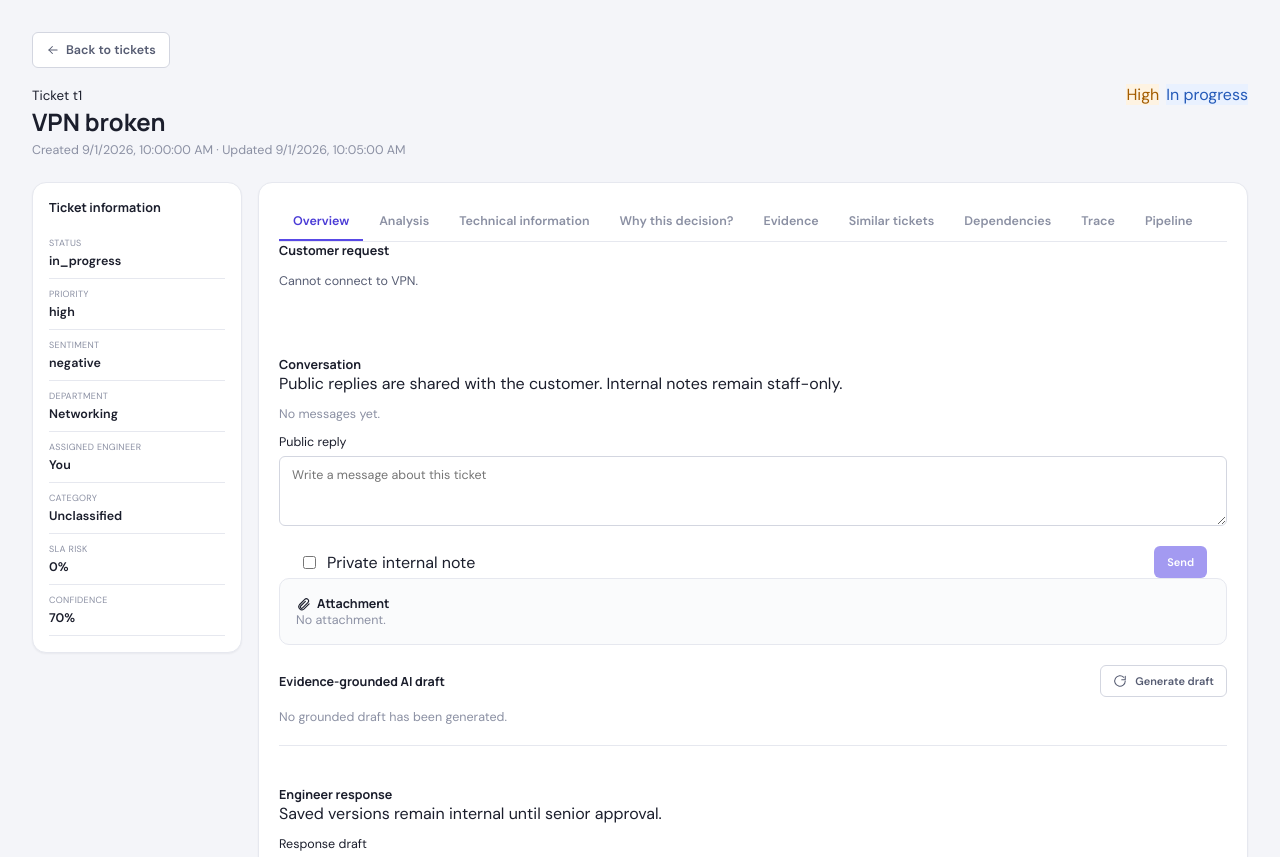
Test: engineer response workflow › renders a truthful empty trace before any execution
Click the tab "Pipeline" at (1169, 222), box [1131, 203, 1207, 241]
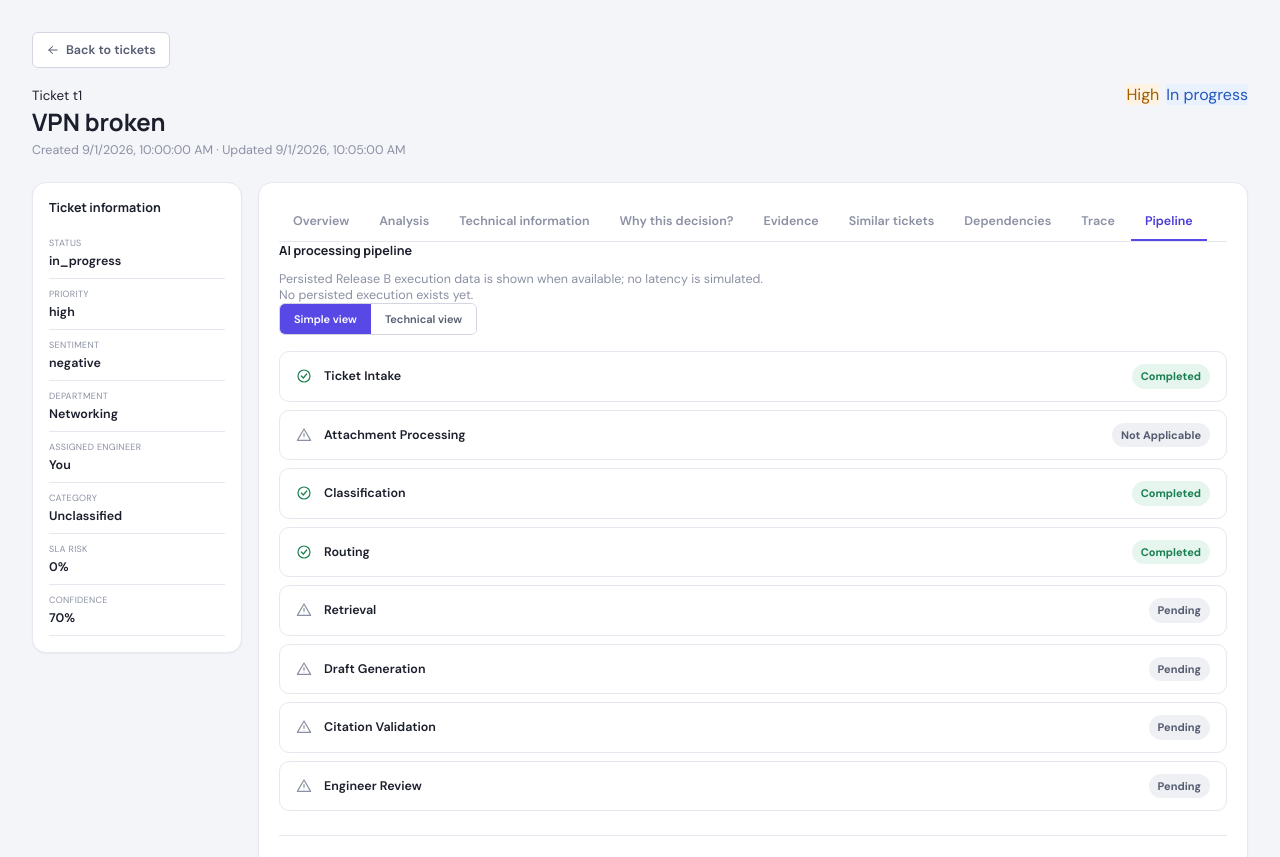
Expected: the text "No persisted execution exists yet." is shown, [279, 287, 473, 303]
